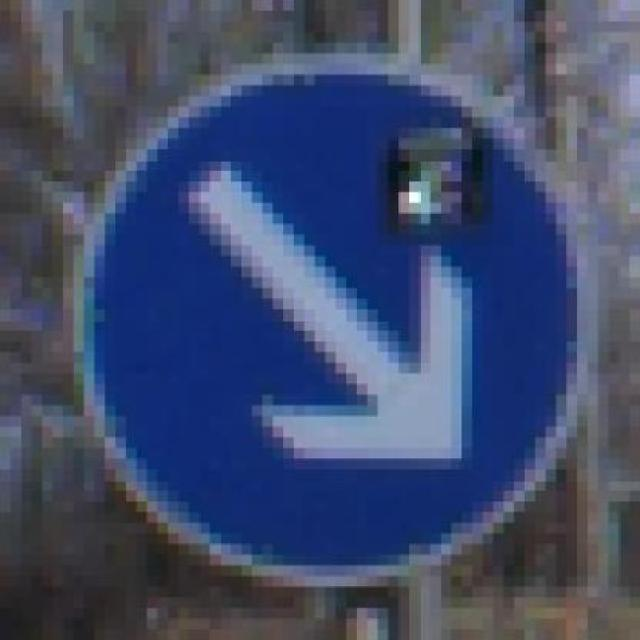Keep-Right: (73, 42, 609, 620)
